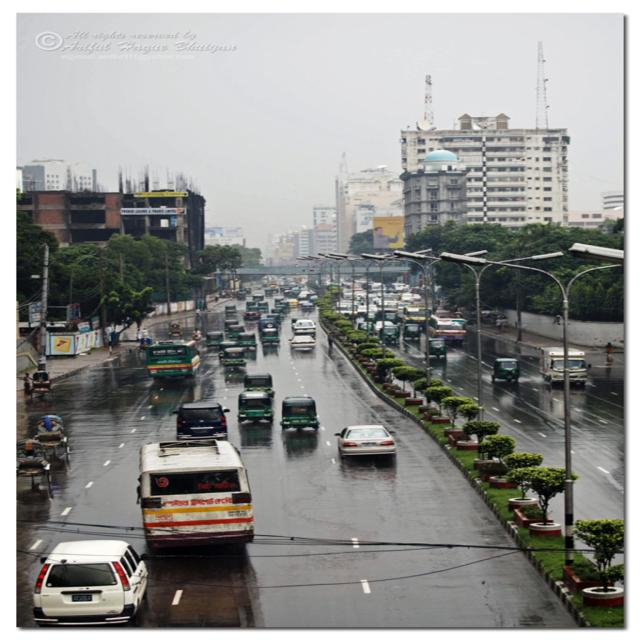car: (26, 539, 156, 627), (334, 421, 393, 463), (287, 332, 314, 354), (287, 318, 314, 335)
